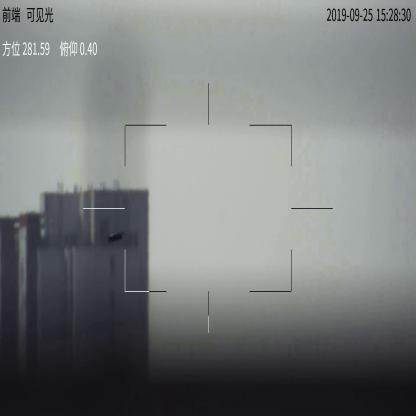uav: (108, 232, 122, 243)
